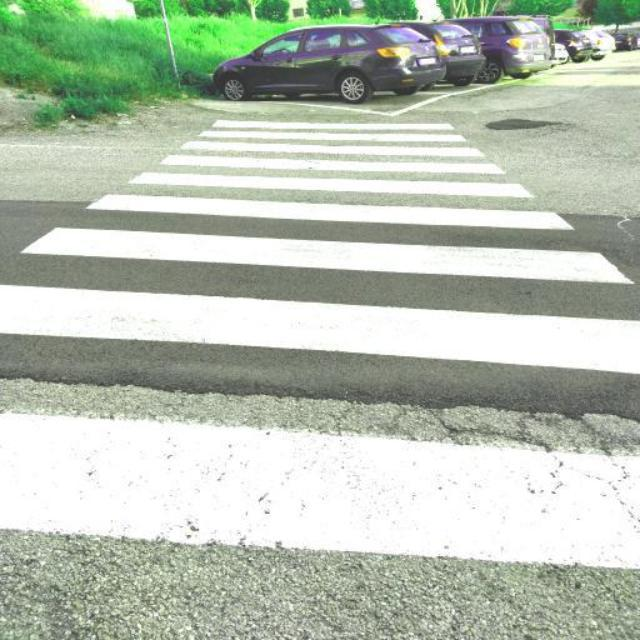sidewalk: (0, 117, 640, 576)
